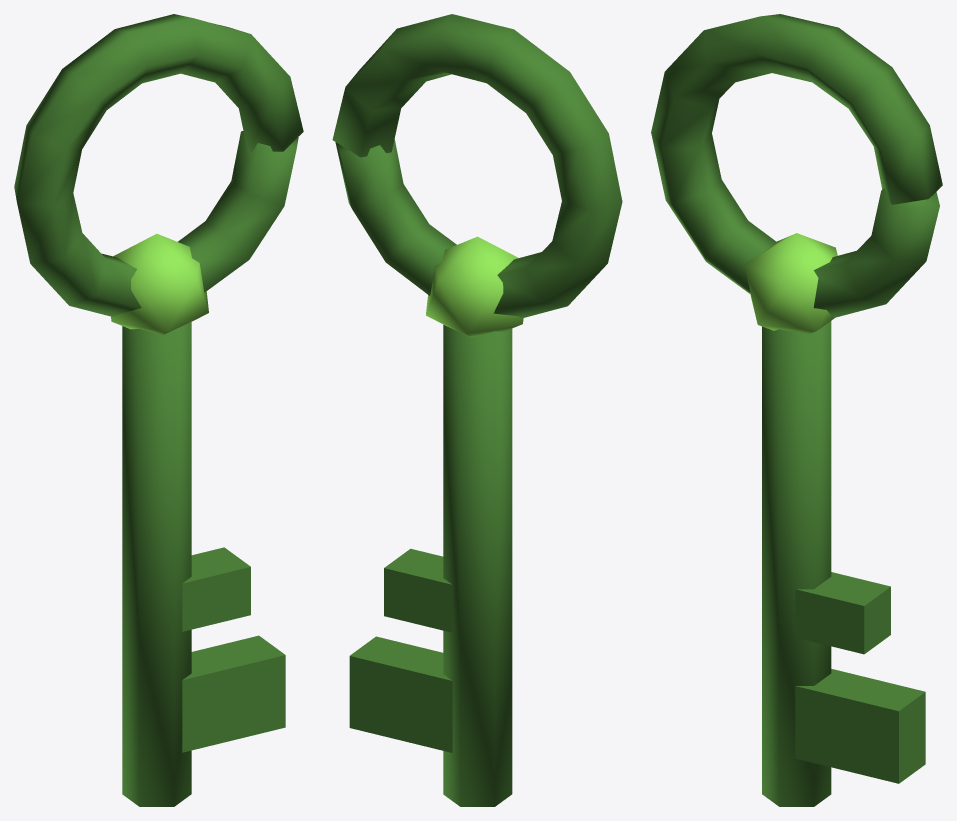
File: jungle_key.glb
3 renders of one model, left to right at view 1: azimuth 30°, elevation 25°; view 2: azimuth 150°, elevation 25°; view 3: azimuth 330°, elevation 25°, orthographic.
Parts seen in each view (by area): view 1: jungle_key_v0; view 2: jungle_key_v0; view 3: jungle_key_v0.
Boxes of the visible parts, x1=… form: jungle_key_v0: x1=14, y1=14, x2=303, y2=806; jungle_key_v0: x1=332, y1=14, x2=622, y2=806; jungle_key_v0: x1=651, y1=14, x2=942, y2=806.
Size of the model in its own units: 0.1235 by 0.3199 by 0.0374.
